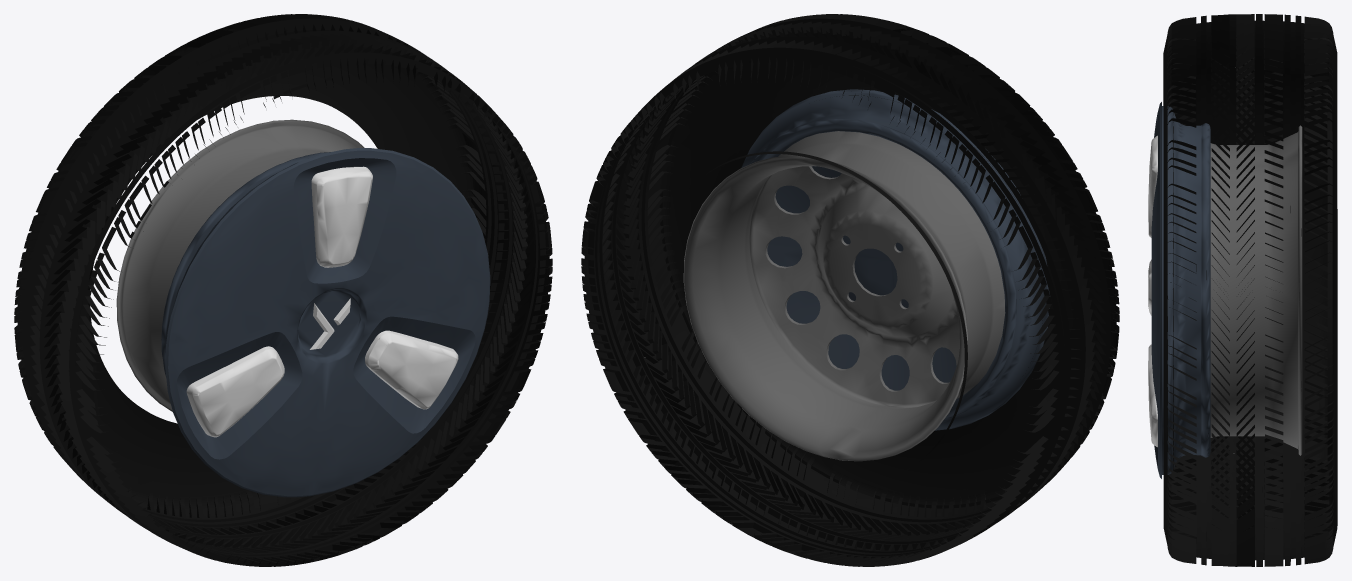
Rendered from 241126_CAB_Tires_FR.gltf.
The picture shows the model from 3 angles, left to right: view 1: azimuth 30°, elevation 25°; view 2: azimuth 150°, elevation 25°; view 3: azimuth 270°, elevation 25°; orthographic projection.
Visible parts, largest first — view 1: VL; view 2: VL; view 3: VL.
Part boxes in pixels (<box>): VL: <box>14,14,552,566</box>; VL: <box>581,14,1119,566</box>; VL: <box>1148,14,1337,566</box>.
Bounding box in the file's own units: 0.6354 × 0.6354 × 0.2173.
